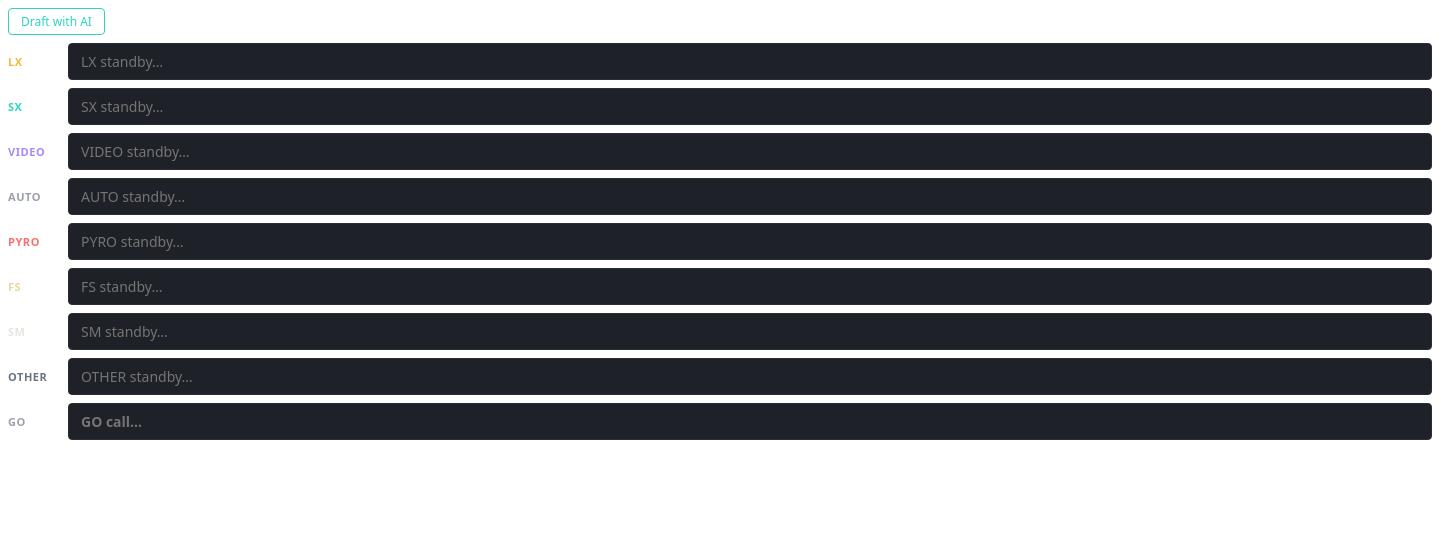
Test: CallerLinesEditor — Draft with AI › shows AI draft review panel after successful draft
Click the button with test id "caller-ai-draft-btn" at (56, 22), box [8,8,105,35]
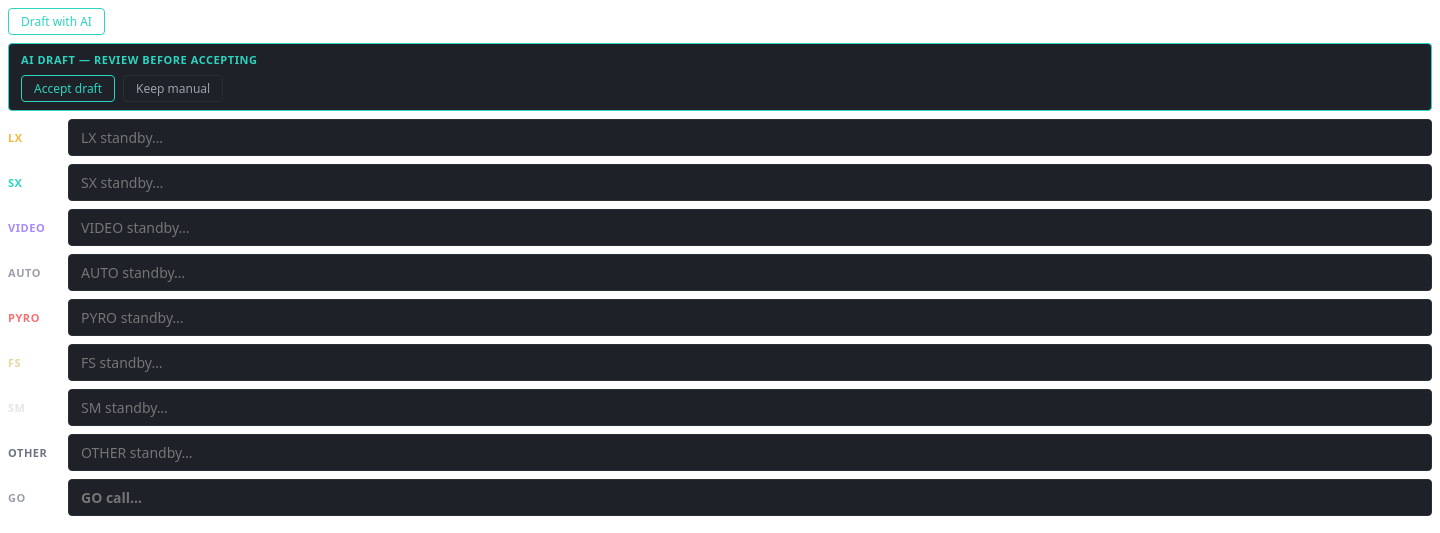
Expected: the element with test id "caller-ai-draft-panel" is shown, [8,43,1432,111]
Expected: the text with test id "caller-ai-draft-label" shows "AI Draft", [21,52,258,67]
Expected: the button with test id "caller-ai-draft-accept" is shown, [21,75,115,102]
